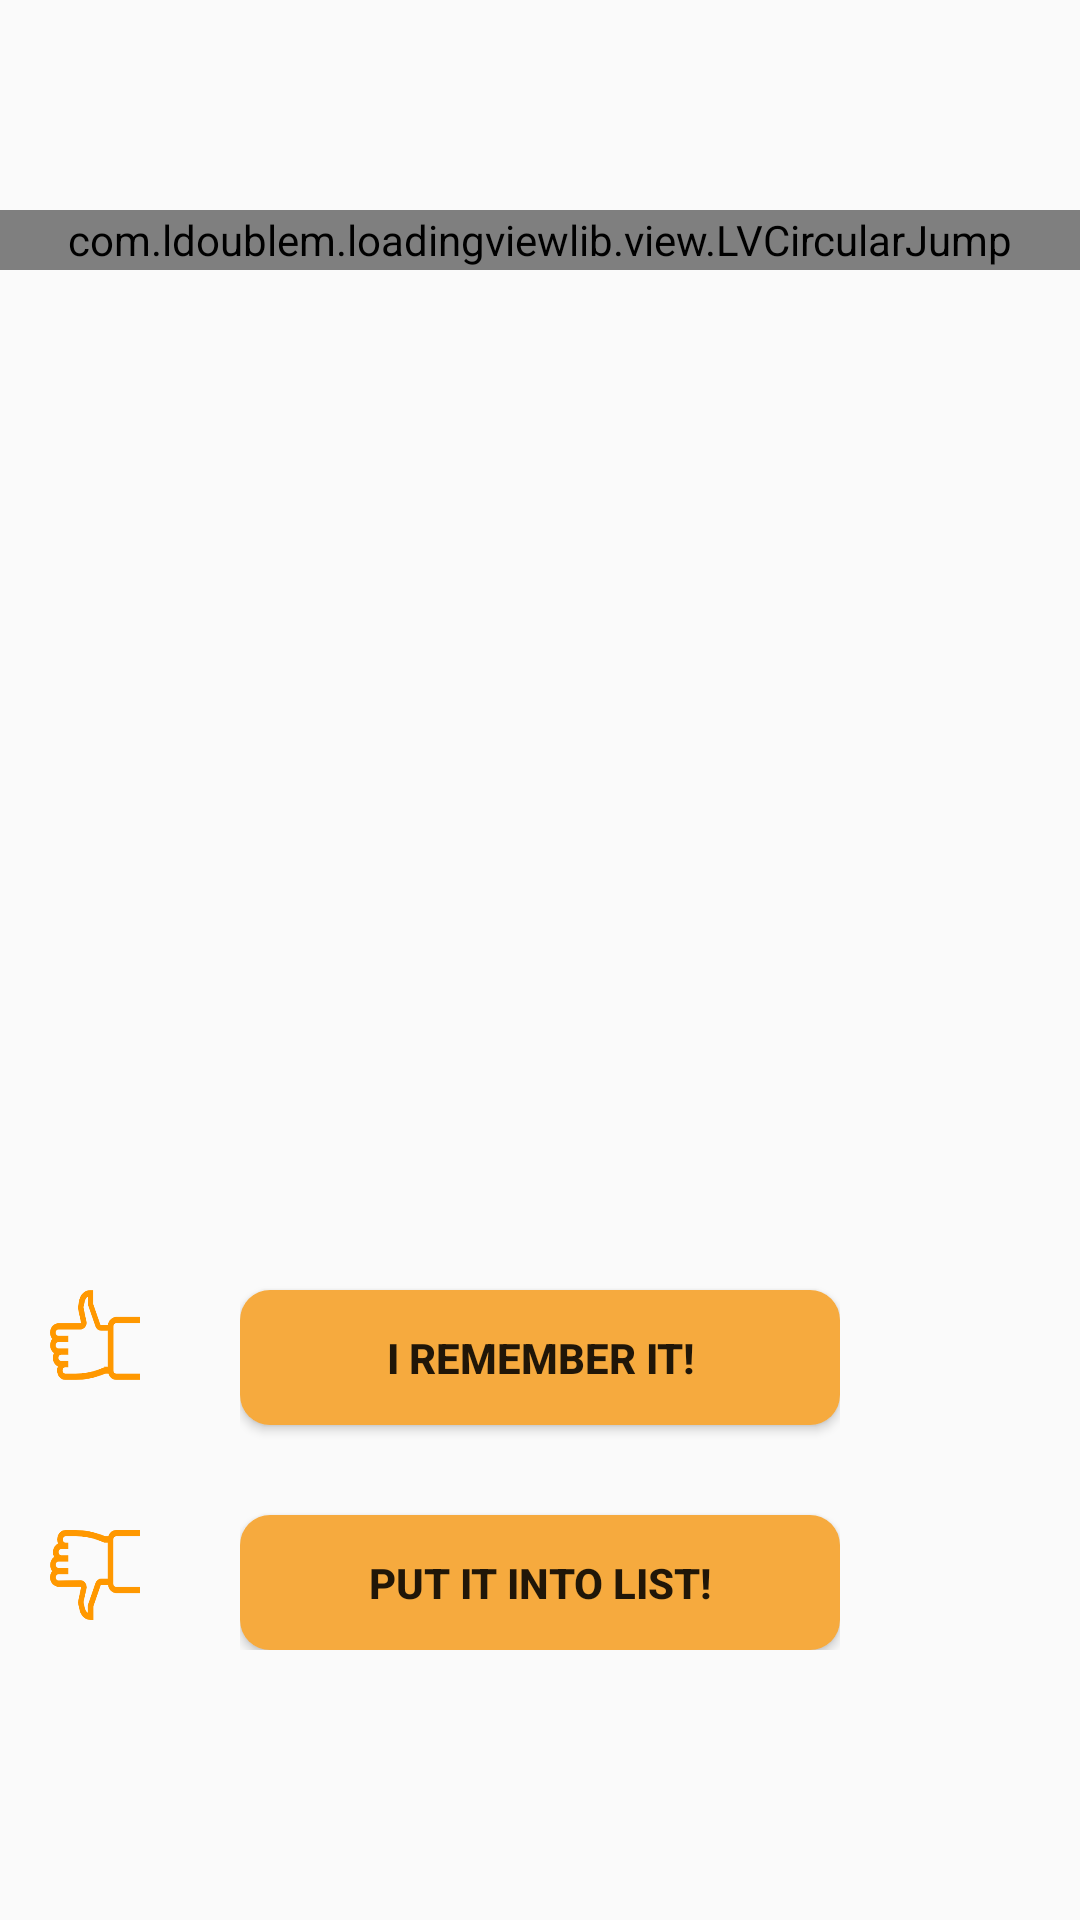

Where icons sit on this 1080px x 1920px app screen, as (x1, y1, x2, y2):
yes: (50, 1290, 140, 1380)
